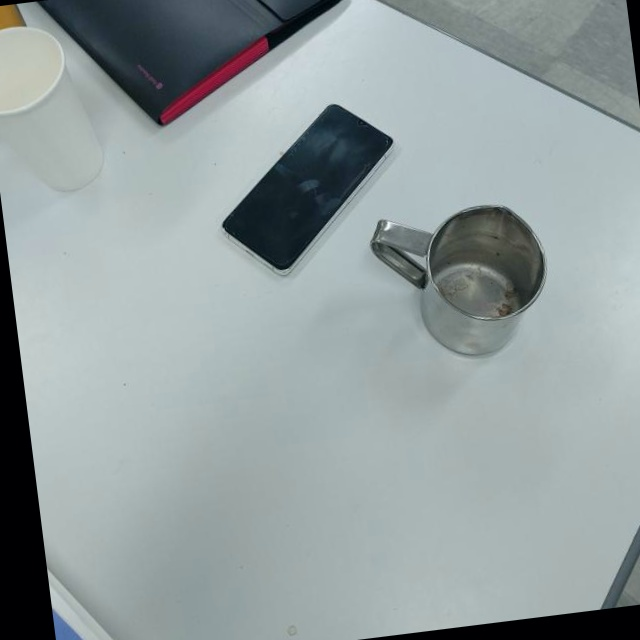cup: (365, 195, 559, 372)
phone: (209, 96, 408, 283)
